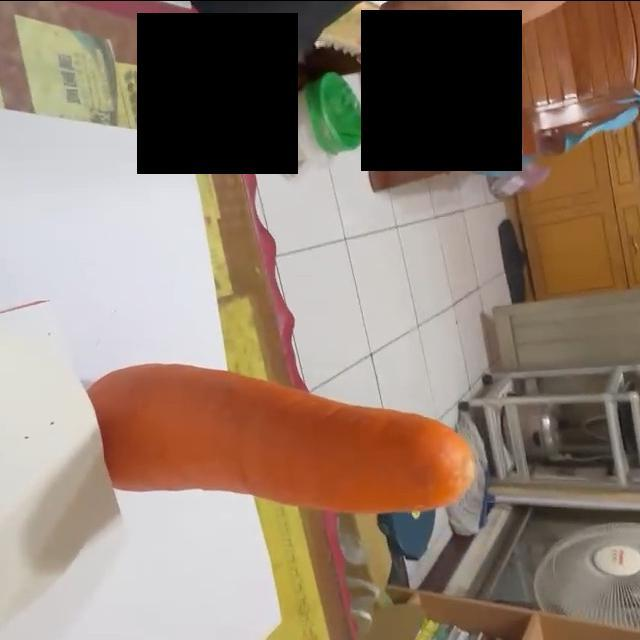carrot: (89, 362, 476, 515)
